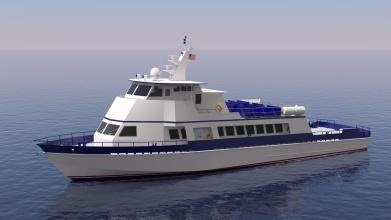yacht: (35, 44, 374, 179)
